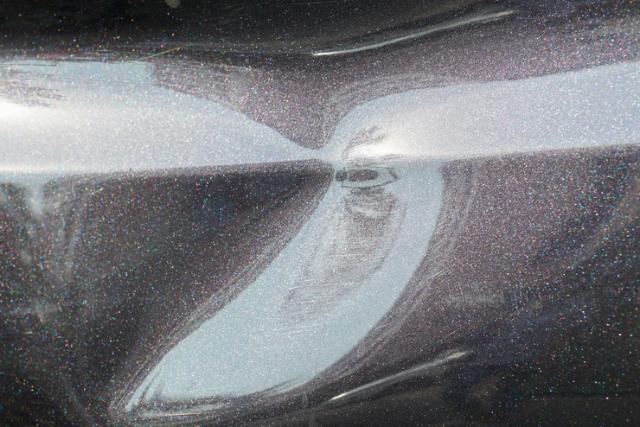Door: (4, 31, 640, 427)
